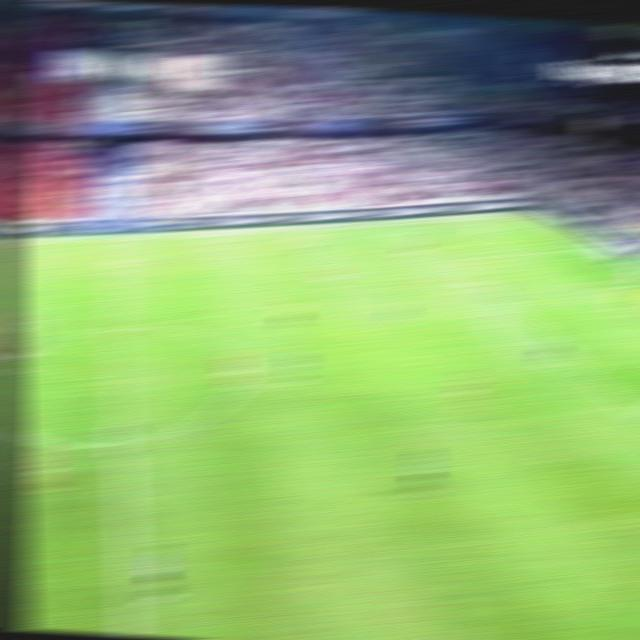bigarea_top_inner: (436, 250, 466, 266)
bigarea_top_outter: (567, 239, 603, 258)
bottom_arc_area_intersection: (573, 364, 602, 381)
corner: (218, 356, 266, 391), (509, 208, 541, 223)
halfcircle_bottom: (101, 424, 142, 459)
halfcircle_top: (97, 314, 136, 342)
midline_top_intersection: (96, 233, 136, 249)
smallarea_top_inner: (584, 279, 616, 295)
smallarea_top_outter: (626, 269, 640, 292)
top_arc_area_intersection: (488, 293, 519, 310)
